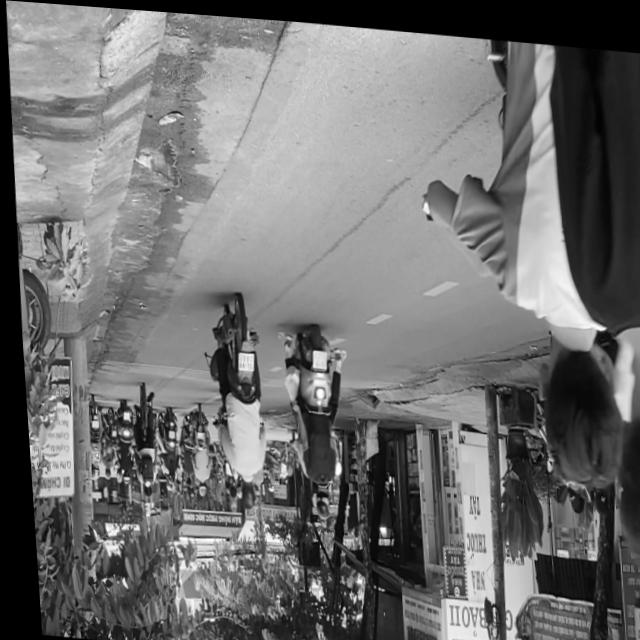helmet: (305, 481, 326, 517)
licenseplate: (198, 291, 270, 515), (273, 317, 349, 520)
motorcyclist: (232, 475, 252, 508)
nohelmet: (307, 345, 324, 366), (233, 350, 250, 369)
